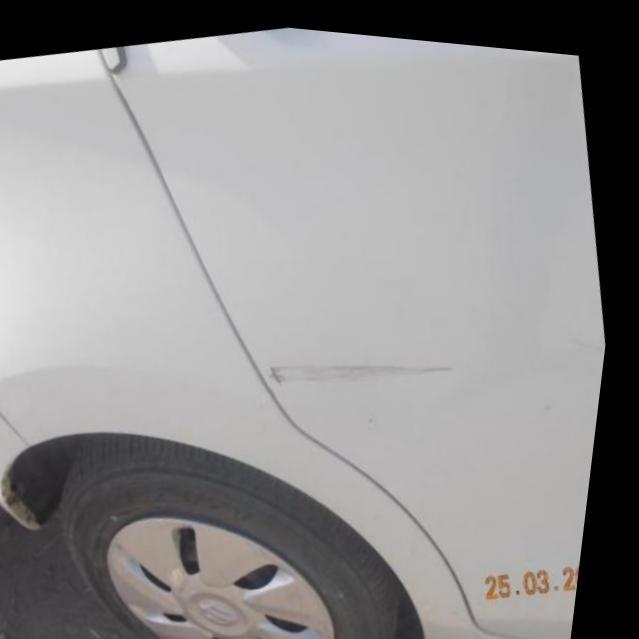scratch: (272, 350, 465, 384)
